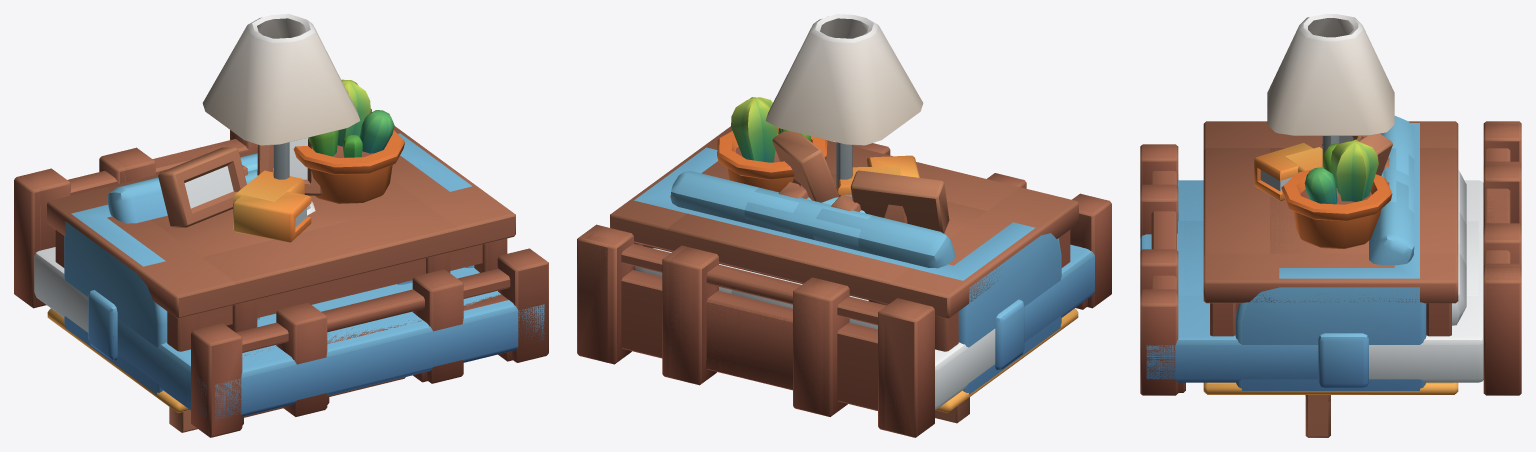
File: furniture.glb
3 views of the same model, side by side, from view 1: azimuth 30°, elevation 25°; view 2: azimuth 150°, elevation 25°; view 3: azimuth 270°, elevation 25° (orthographic). The views are drawn at different scales.
Parts seen in each view (by area): view 1: bed_double_B, table_medium_long, bed_double_A, lamp_standing, cabinet_medium_decorated, table_medium, couch, bed_single_B, cabinet_small_decorated, bed_single_A, cabinet_medium, rug_rectangle_A (+1 smaller); view 2: bed_double_B, couch, bed_single_A, table_medium_long, lamp_standing, bed_double_A, cabinet_medium_decorated, bed_single_B, table_medium, cabinet_small_decorated, armchair, cabinet_medium (+1 smaller); view 3: bed_double_A, bed_double_B, couch, table_medium_long, lamp_standing, table_medium, cabinet_medium_decorated, bed_single_A, bed_single_B, cabinet_small_decorated, cabinet_medium, rug_rectangle_A (+2 smaller).
Boxes of the visible parts, box(x1,y1,x2,y2) form: bed_double_B: box(14, 108, 548, 437); table_medium_long: box(47, 126, 515, 351); bed_double_A: box(22, 146, 544, 425); lamp_standing: box(202, 14, 360, 179); cabinet_medium_decorated: box(158, 79, 404, 227); table_medium: box(106, 150, 457, 332); couch: box(64, 133, 474, 394); bed_single_B: box(99, 139, 463, 416); cabinet_small_decorated: box(233, 137, 322, 242); bed_single_A: box(107, 130, 431, 404); cabinet_medium: box(158, 201, 360, 257); rug_rectangle_A: box(47, 308, 189, 412); bed_double_B: box(577, 193, 1111, 437); couch: box(634, 147, 1061, 394); bed_single_A: box(669, 247, 841, 414); table_medium_long: box(610, 126, 1078, 351); lamp_standing: box(765, 14, 923, 196); bed_double_A: box(584, 231, 1094, 434); cabinet_medium_decorated: box(717, 97, 949, 233); bed_single_B: box(662, 143, 1026, 416); table_medium: box(668, 140, 1019, 305); cabinet_small_decorated: box(772, 131, 919, 202); armchair: box(744, 187, 872, 246); cabinet_medium: box(831, 173, 986, 238); bed_double_A: box(1140, 124, 1521, 392); bed_double_B: box(1140, 121, 1521, 395); couch: box(1235, 116, 1426, 390); table_medium_long: box(1203, 121, 1458, 336); lamp_standing: box(1267, 14, 1394, 166); table_medium: box(1204, 148, 1457, 255); cabinet_medium_decorated: box(1281, 136, 1392, 248); bed_single_A: box(1141, 164, 1521, 295); bed_single_B: box(1140, 161, 1521, 295); cabinet_small_decorated: box(1254, 134, 1392, 200); cabinet_medium: box(1270, 148, 1368, 253); rug_rectangle_A: box(1203, 382, 1458, 394).
Size of the model in its own units: 3.1 by 3.12 by 3.
1 material, 1 textured.
